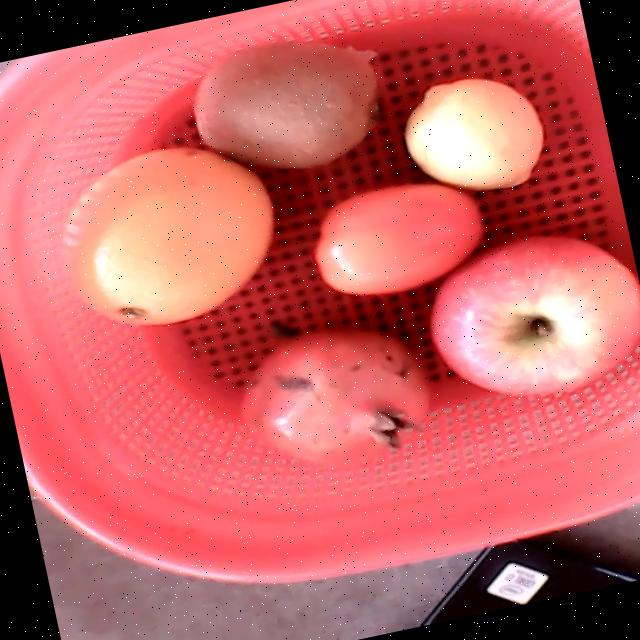apple: (429, 234, 640, 395)
kiwi: (193, 40, 385, 167)
lemon: (405, 75, 544, 187)
orange: (59, 147, 272, 322)
pomegranate: (239, 326, 428, 465)
tomato: (313, 184, 482, 294)
